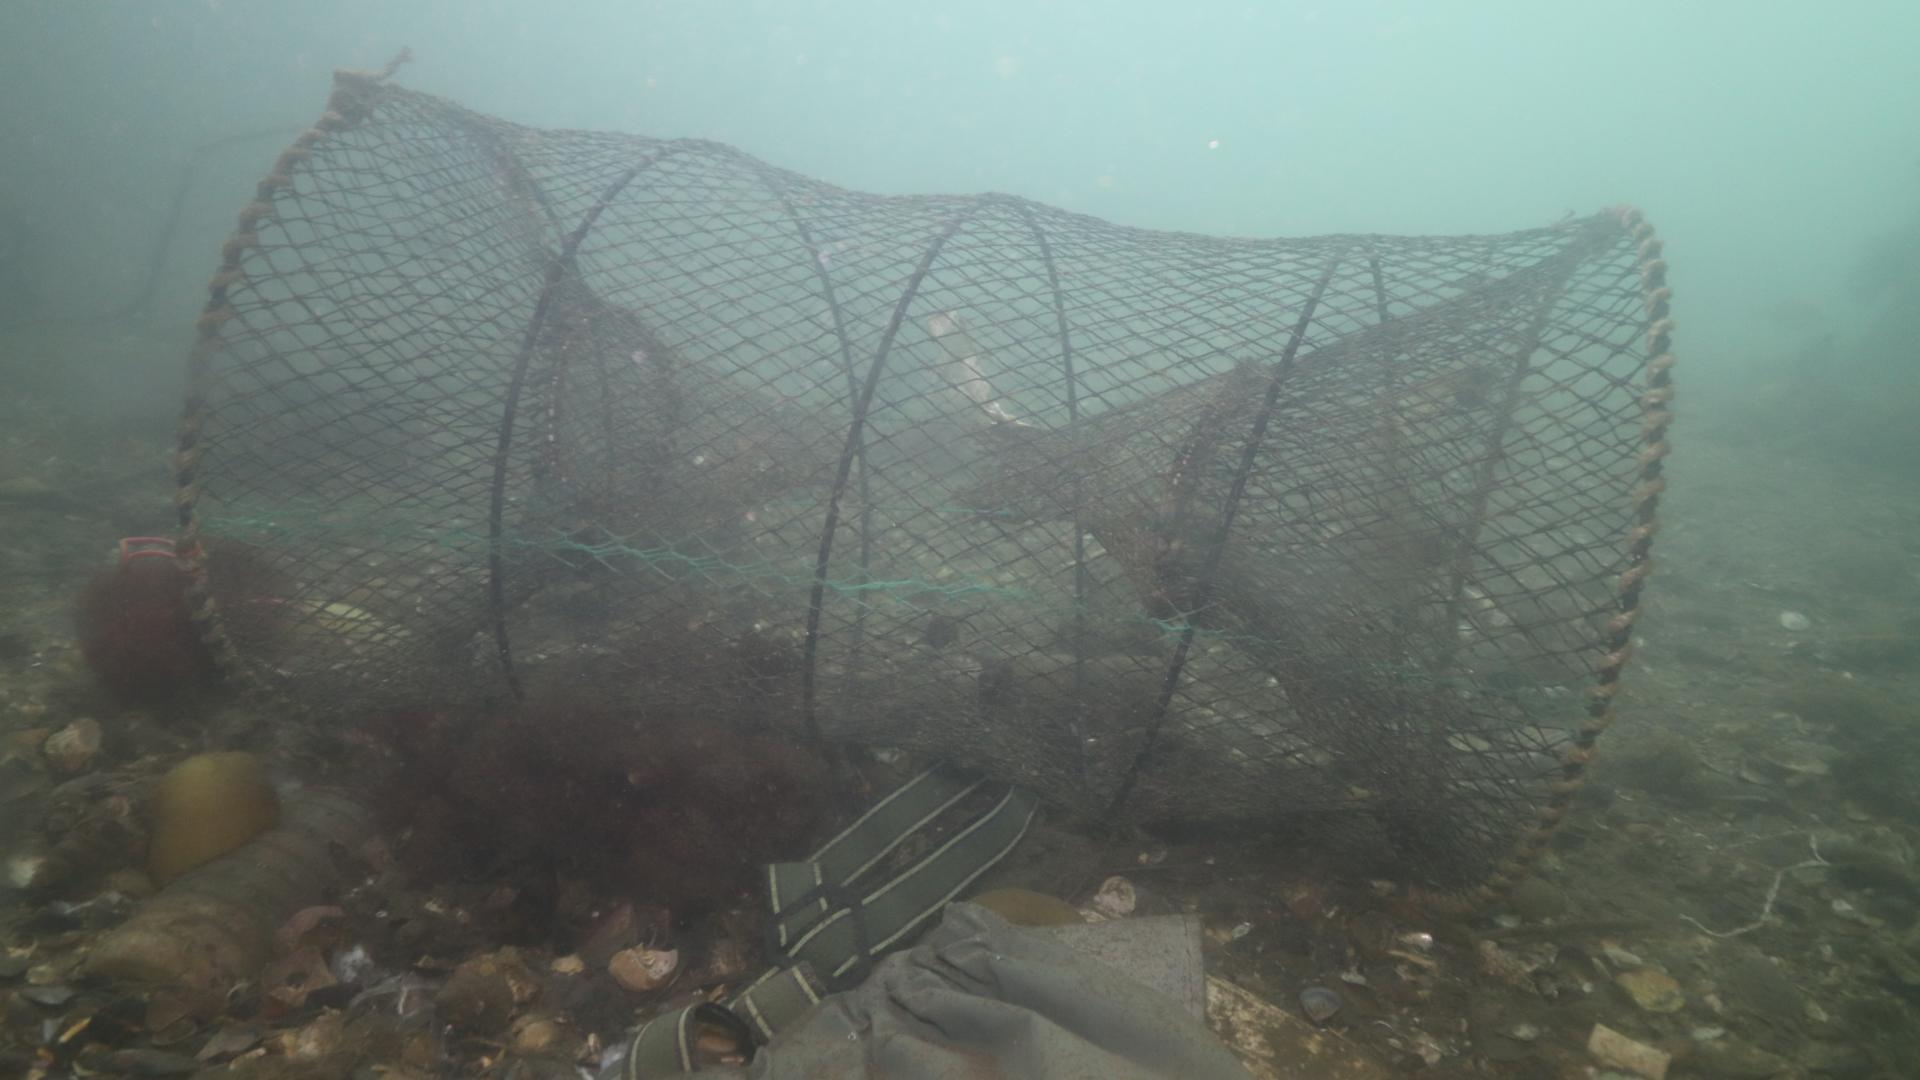spring fish trap: (169, 75, 1668, 913)
